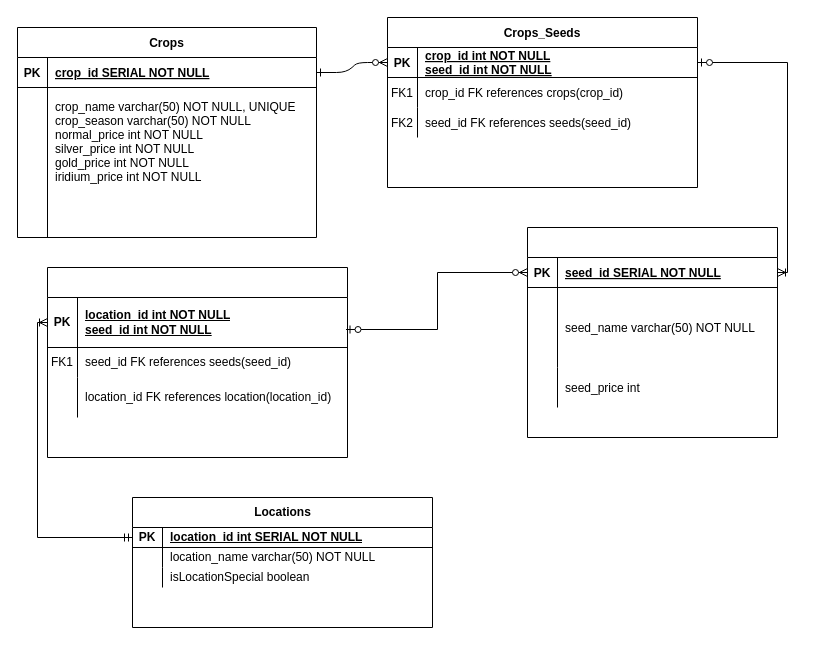
This 814x645 diagram has some shape labels left out. Each missing label, with the box of its shape:
seed_location: (46, 266, 348, 458)
Seeds: (526, 226, 778, 438)
